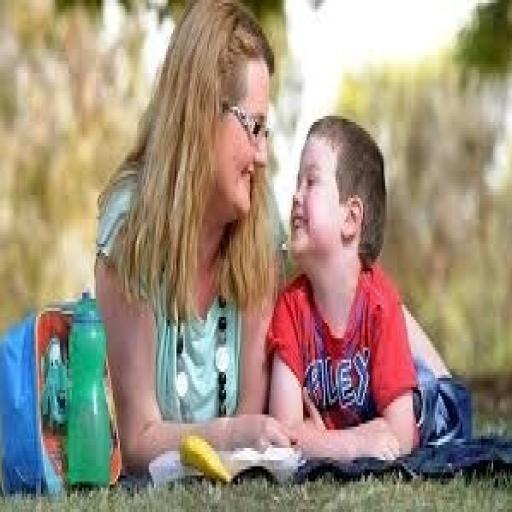sitting: (89, 0, 461, 482), (264, 110, 421, 466)
